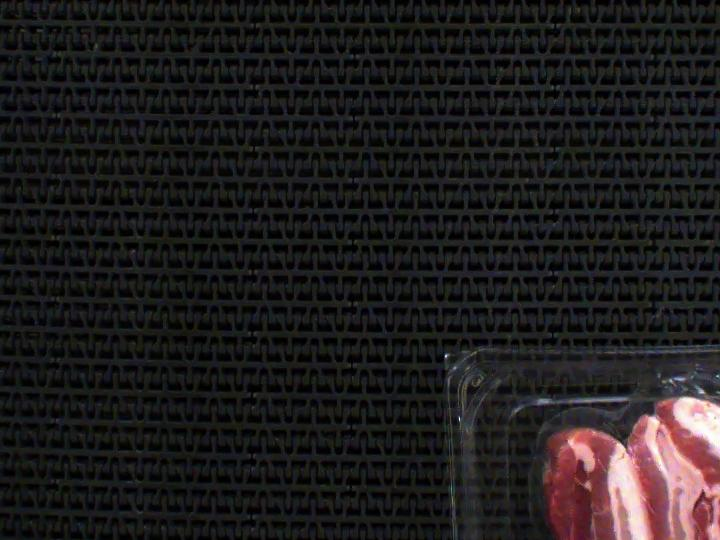unsealed: (525, 347, 720, 510)
